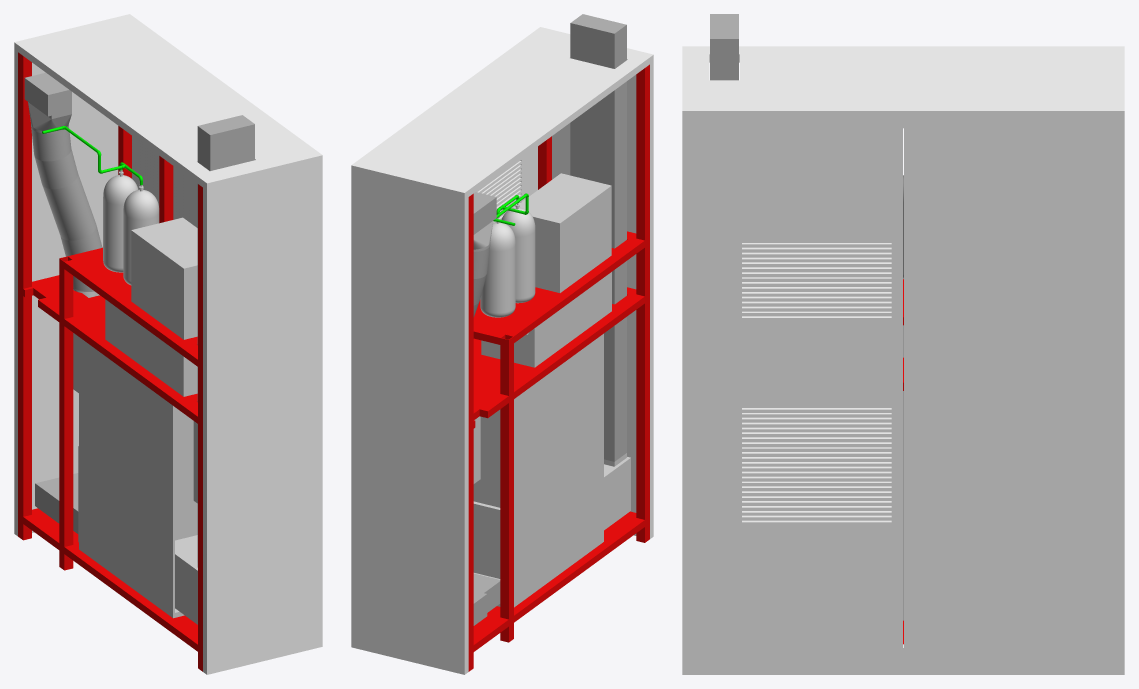
3 views of the same model, side by side, from view 1: azimuth 30°, elevation 25°; view 2: azimuth 150°, elevation 25°; view 3: azimuth 270°, elevation 25° (orthographic). The views are drawn at different scales.
Bounding box in the file's own units: 0.932 × 3.7 × 2.45.
